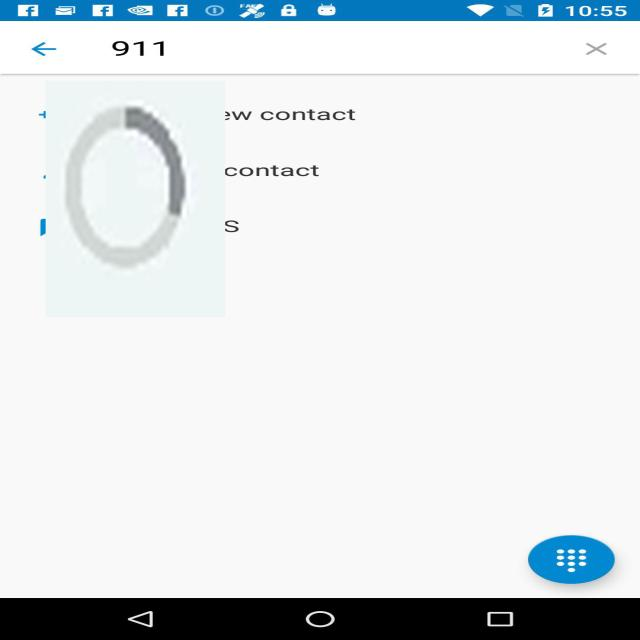misdirection: (46, 81, 225, 317)
